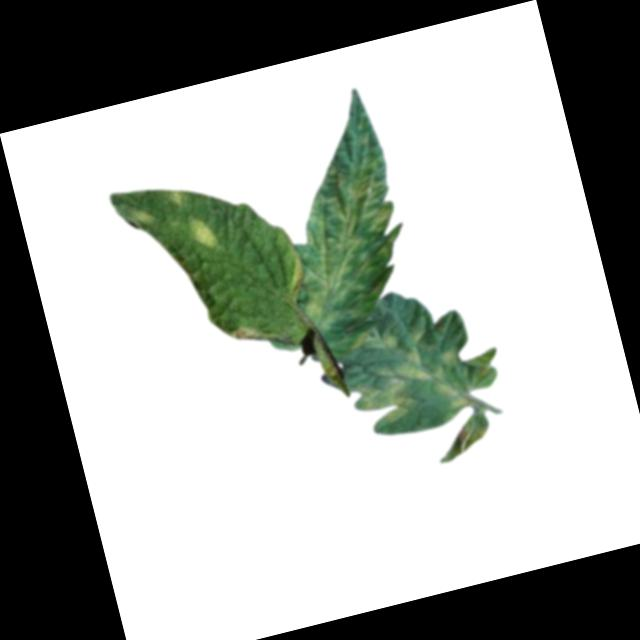Leaf_Mold: (252, 83, 426, 340), (338, 307, 468, 431), (227, 318, 281, 349), (189, 214, 224, 252), (127, 198, 157, 230)
